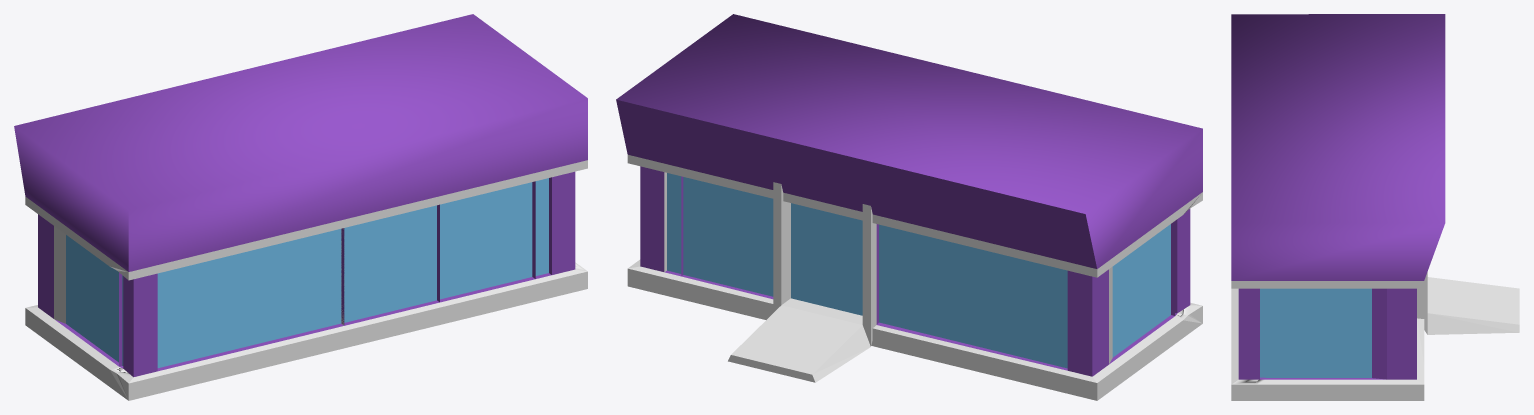
The model's file is Shop5x2x2Purple.fbx.
The picture shows the model from 3 angles, left to right: view 1: azimuth 30°, elevation 25°; view 2: azimuth 150°, elevation 25°; view 3: azimuth 270°, elevation 25°; orthographic projection. The views are drawn at different scales.
Parts seen in each view (by area): view 1: Shop.002; view 2: Shop.002; view 3: Shop.002.
Part boxes in pixels (x1,y1,x2,y2): Shop.002: (14, 14, 587, 400); Shop.002: (616, 14, 1202, 400); Shop.002: (1231, 14, 1519, 400).
Bounding box in the file's own units: 4.99 × 1.98 × 2.91.
Materials: 1 (1 with a texture image).
